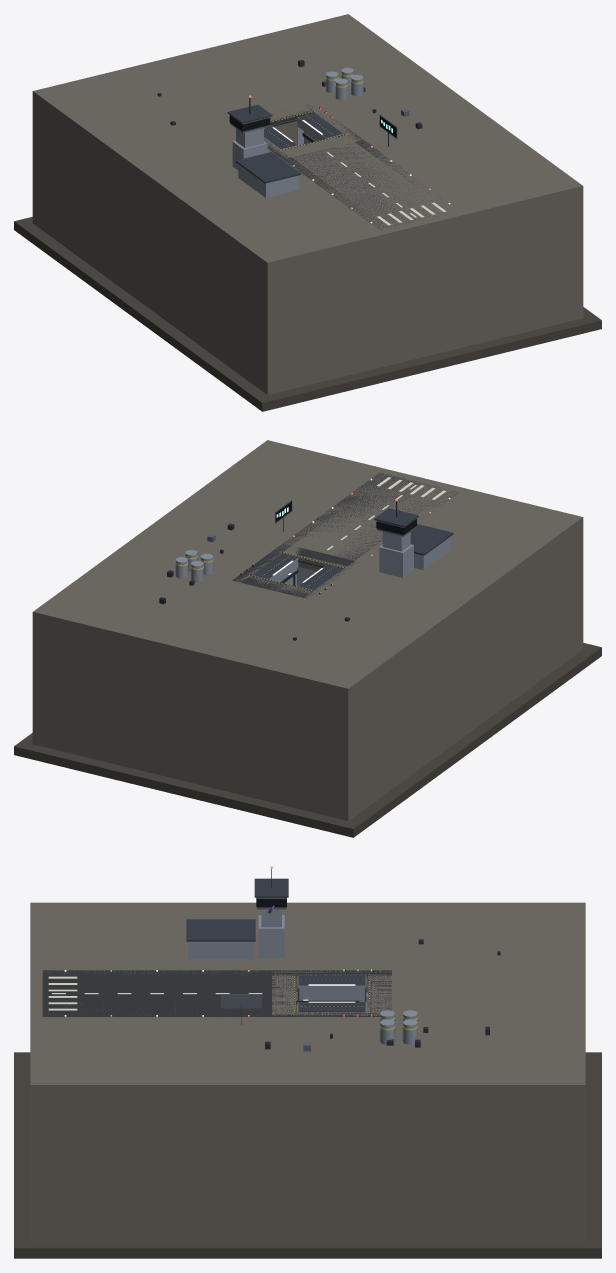
File: runway-port-m.glb
The picture shows the model from 3 angles, top to bottom: view 1: azimuth 30°, elevation 25°; view 2: azimuth 150°, elevation 25°; view 3: azimuth 270°, elevation 25°; orthographic projection. The views are drawn at different scales.
Visible parts, largest first — view 1: rockFaceFore, rockFaceL, rockDeckL, rockDeckR, rockDeckFore, rockSkirt1, rockDeckAft, rockSkirt2, portStrip, rockFaceR, worksShedRoof, worksShed; view 2: rockFaceAft, rockFaceL, rockDeckL, rockDeckR, rockDeckAft, rockDeckFore, rockSkirt0, rockSkirt2, portStrip, rockFaceR, worksTowerSeg0, worksShedRoof (+2 smaller); view 3: rockFaceR, rockDeckR, rockDeckL, rockSkirt3, portStrip, rockDeckAft, rockSkirt0, rockSkirt1, worksShedRoof, rockDeckFore, worksShed, worksTowerSeg0 (+7 smaller).
Boxes of the visible parts, x1,y1,x2,y2 form: rockFaceFore: (279, 198, 571, 392); rockFaceL: (32, 100, 279, 394); rockDeckL: (32, 60, 393, 272); rockDeckR: (222, 14, 583, 225); rockDeckFore: (281, 135, 456, 241); rockSkirt1: (255, 315, 601, 411); rockDeckAft: (159, 45, 313, 130); rockSkirt2: (14, 218, 273, 411); portStrip: (283, 140, 445, 229); rockFaceR: (571, 195, 583, 320); worksShedRoof: (236, 152, 300, 183); worksShed: (238, 164, 298, 197); rockFaceAft: (44, 624, 336, 818); rockFaceL: (336, 526, 583, 820); rockDeckL: (222, 486, 583, 698); rockDeckR: (32, 440, 393, 651); rockDeckAft: (159, 575, 312, 667); rockDeckFore: (281, 471, 456, 571); rockSkirt0: (14, 741, 360, 837); rockSkirt2: (343, 644, 601, 836); portStrip: (283, 473, 458, 560); rockFaceR: (32, 621, 44, 746); worksTowerSeg0: (379, 544, 413, 577); worksShedRoof: (410, 524, 453, 555); rockFaceR: (30, 1096, 585, 1241); rockDeckR: (30, 1012, 585, 1095); rockDeckL: (30, 902, 585, 986); rockSkirt3: (14, 1241, 601, 1258); portStrip: (42, 970, 271, 1016); rockDeckAft: (367, 975, 585, 1011); rockSkirt0: (585, 1052, 601, 1258); rockSkirt1: (14, 1052, 30, 1258); worksShedRoof: (186, 919, 255, 941); rockDeckFore: (30, 975, 296, 1011); worksShed: (188, 941, 253, 959); worksTowerSeg0: (258, 915, 284, 958).
Size of the model in its own units: 114 by 72.53 by 144.
